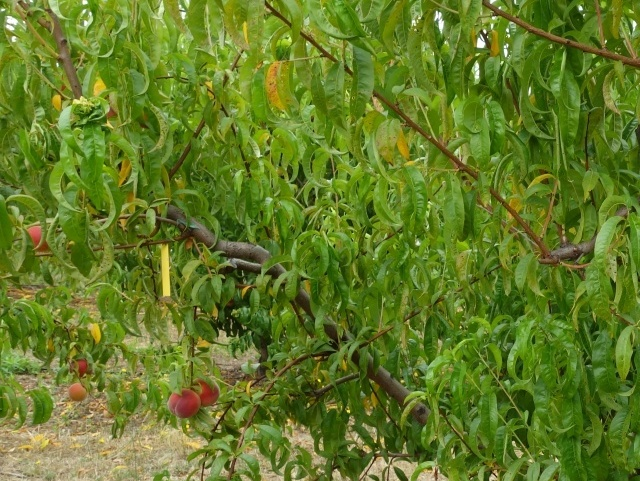peach: (164, 385, 203, 421), (185, 373, 224, 409), (22, 222, 52, 259), (63, 355, 92, 382), (65, 381, 92, 406)
